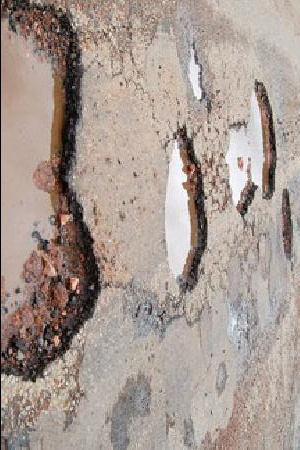pothole: (0, 0, 103, 382), (165, 120, 211, 295), (225, 78, 278, 217), (189, 43, 207, 103), (280, 187, 294, 263)
